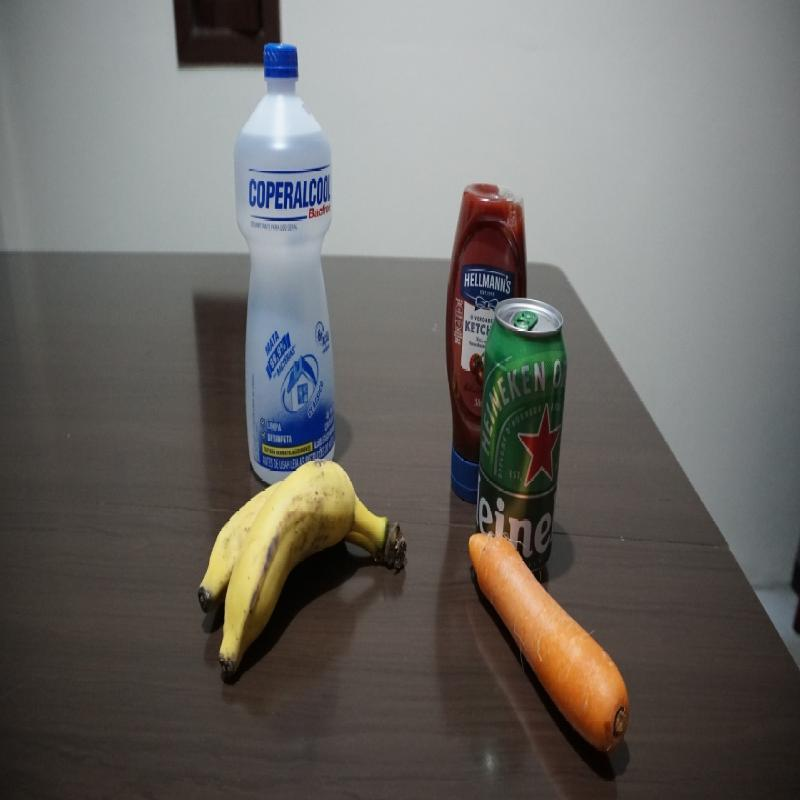Alcohol Bottle: (230, 36, 338, 450)
Banana: (194, 458, 409, 674)
Beer can: (479, 299, 567, 515)
Carrot: (467, 529, 640, 752)
Ketchup: (446, 180, 480, 498)
